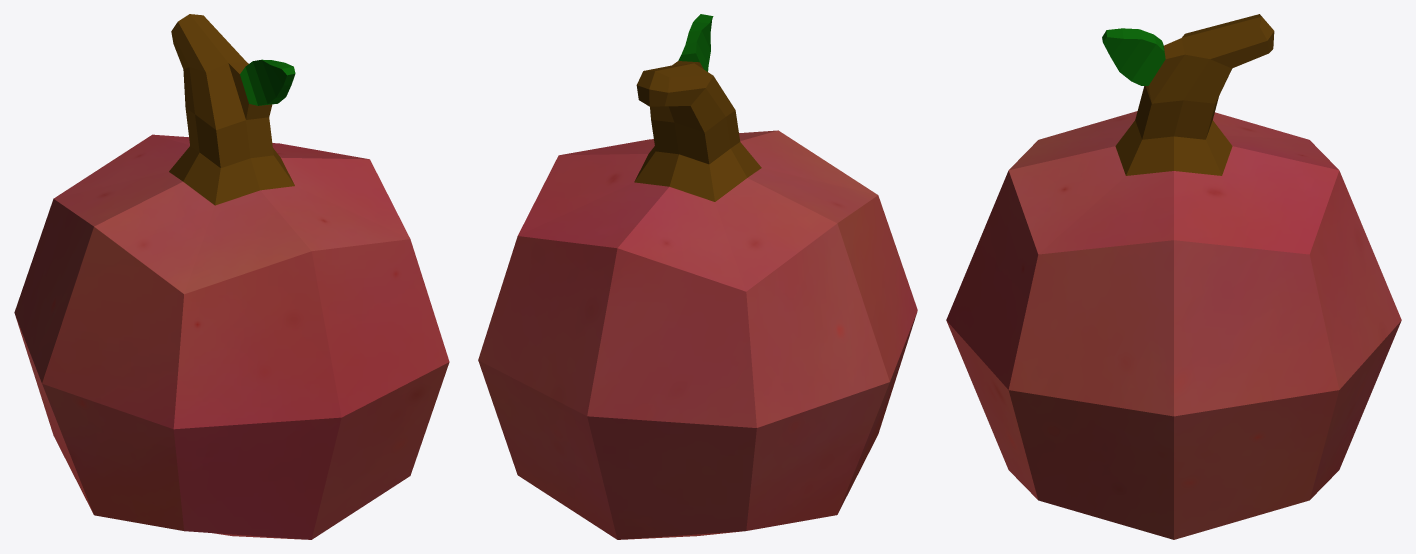
File: Apple.glb
3 views of the same model, side by side, from view 1: azimuth 30°, elevation 25°; view 2: azimuth 150°, elevation 25°; view 3: azimuth 270°, elevation 25° (orthographic). The views are drawn at different scales.
Parts seen in each view (by area): view 1: Cube; view 2: Cube; view 3: Cube.
Part boxes in pixels (left/top/right/bottom): Cube: left=14, top=14, right=449, bottom=539; Cube: left=478, top=14, right=917, bottom=539; Cube: left=946, top=14, right=1401, bottom=539.
Bounding box in the file's own units: 1.68 × 2.07 × 1.68.
Materials: 3 (3 with a texture image).
